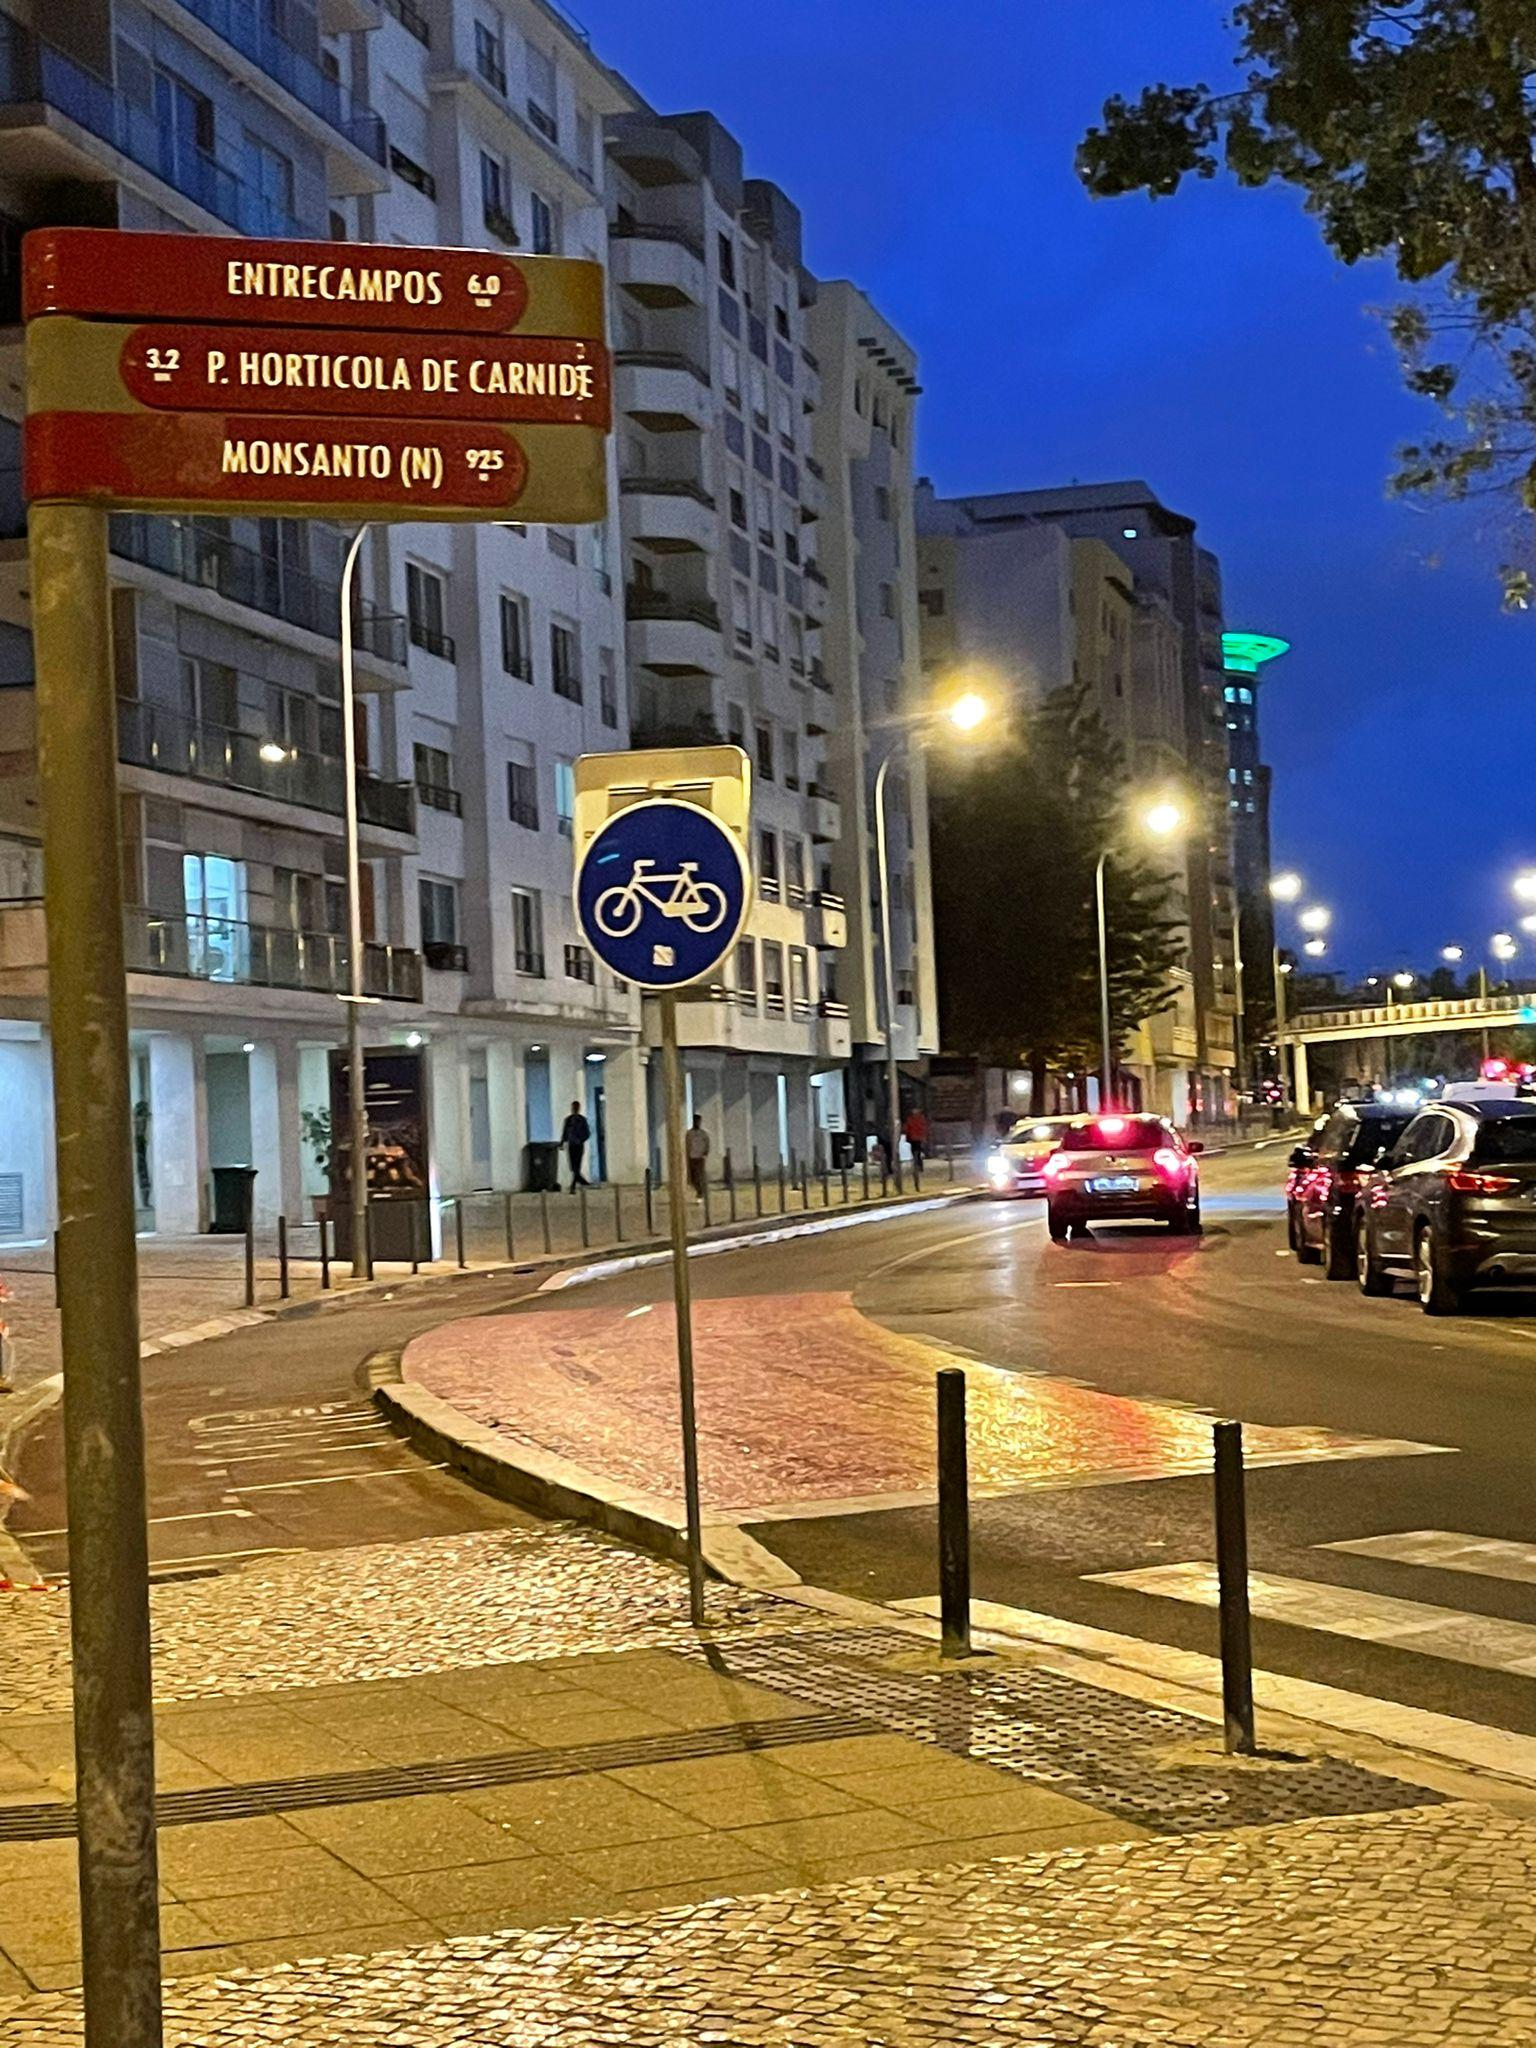fim da pista obrigatoria para velocipedes: (582, 797, 737, 993)
